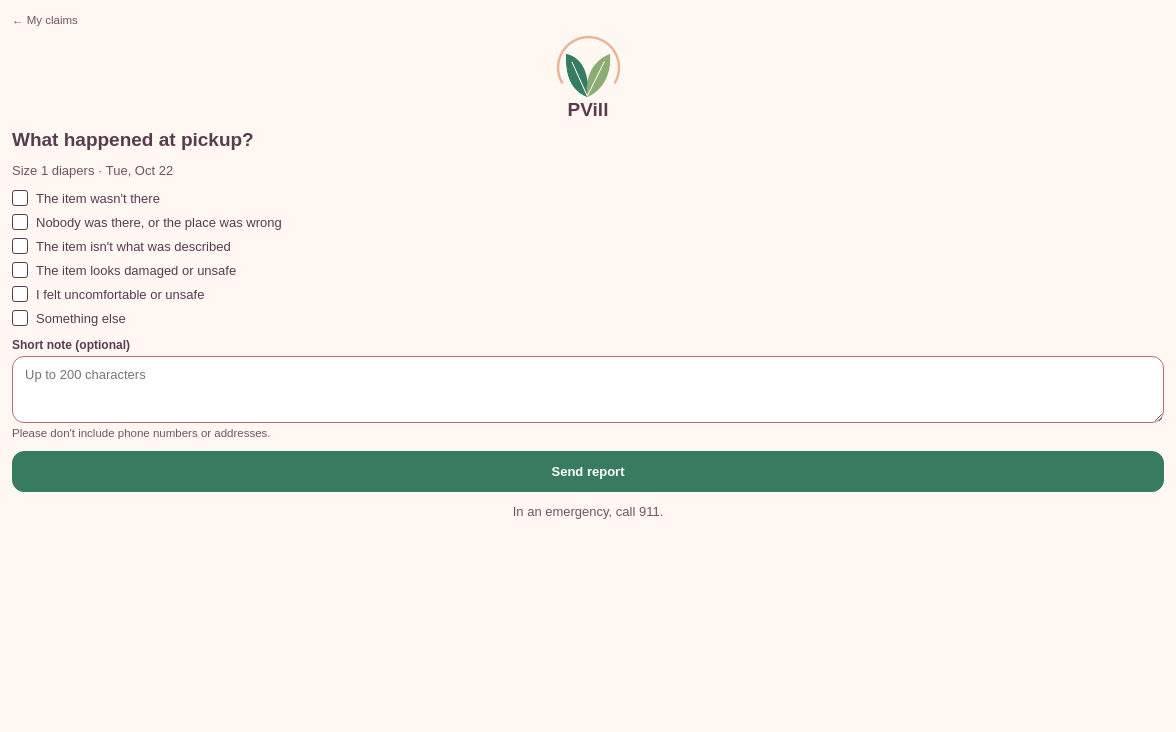
Test: ReportProblemPage › keeps the answers and says what happened when sending fails
The width and height of the screenshot is (1176, 732).
Click the radio button labelled "Something else" at (20, 318), box top-left (12, 310), bottom-right (28, 326)
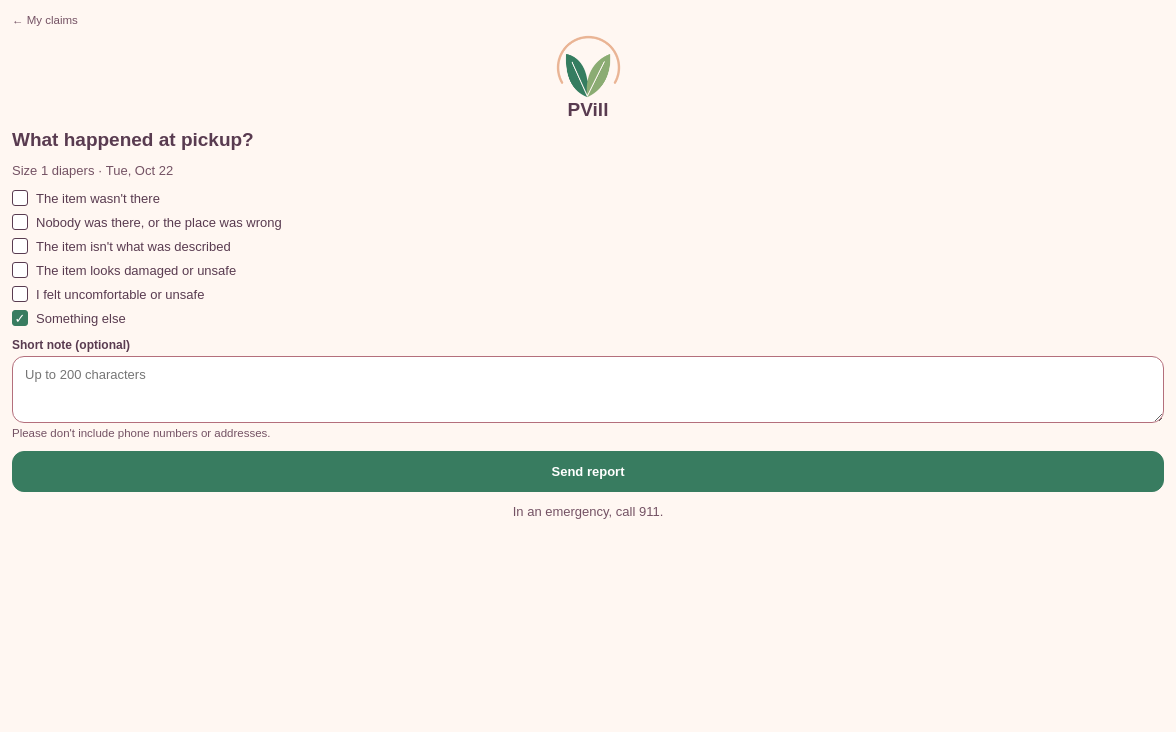
Type "Late." into the text box labelled "Short note (optional)" at (588, 390), box top-left (12, 356), bottom-right (1164, 423)
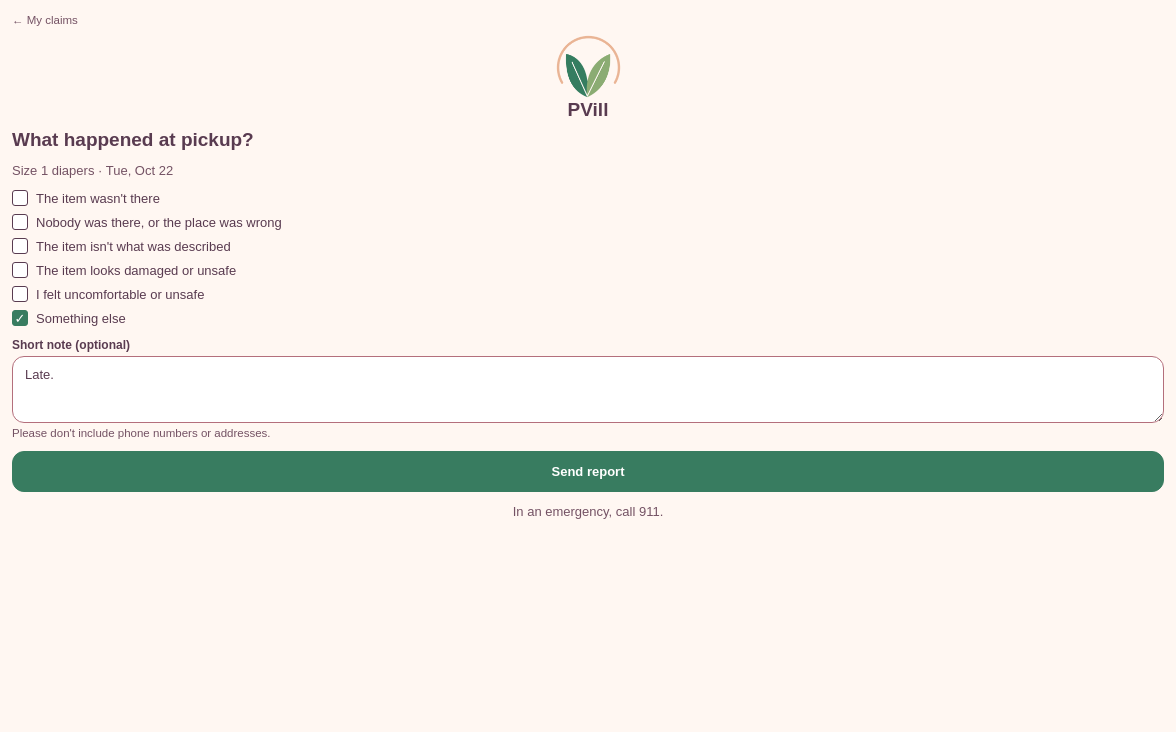
Click the button "Send report" at (588, 472), box top-left (12, 451), bottom-right (1164, 492)
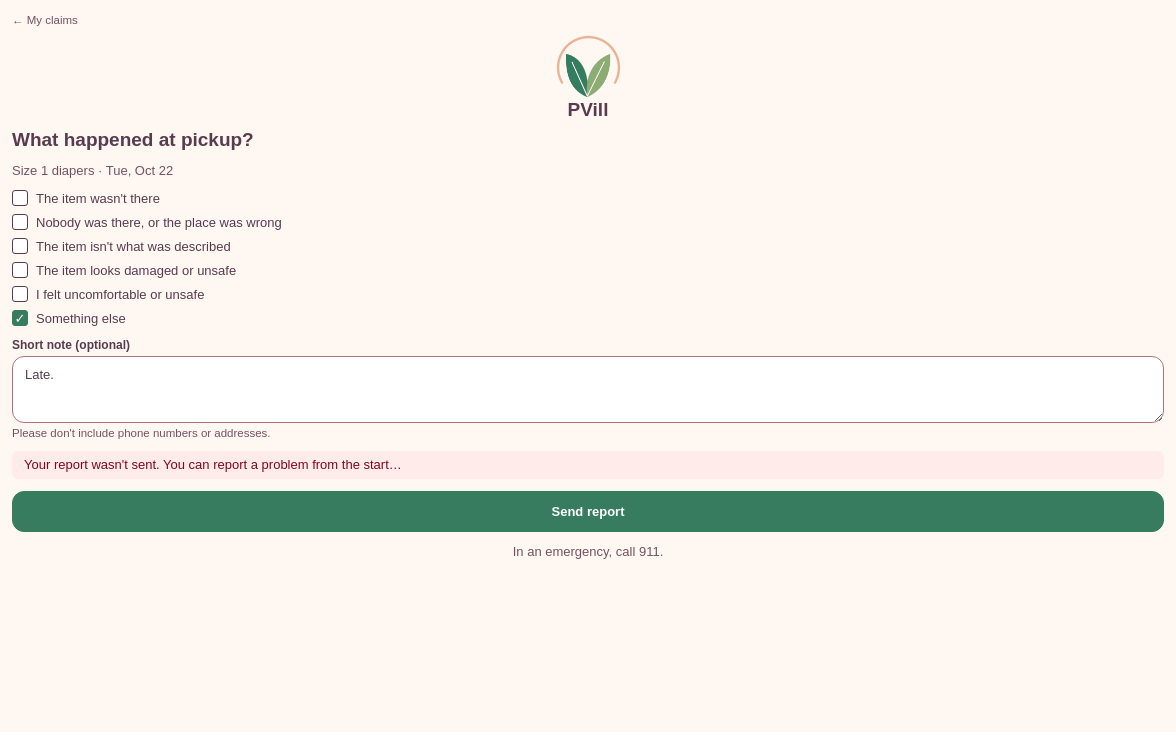
Expected: the radio button labelled "Something else" is checked, top-left (12, 310), bottom-right (28, 326)
Expected: the text "Your report wasn't sent. You can report a problem from the start…" is shown, top-left (12, 451), bottom-right (1164, 479)
